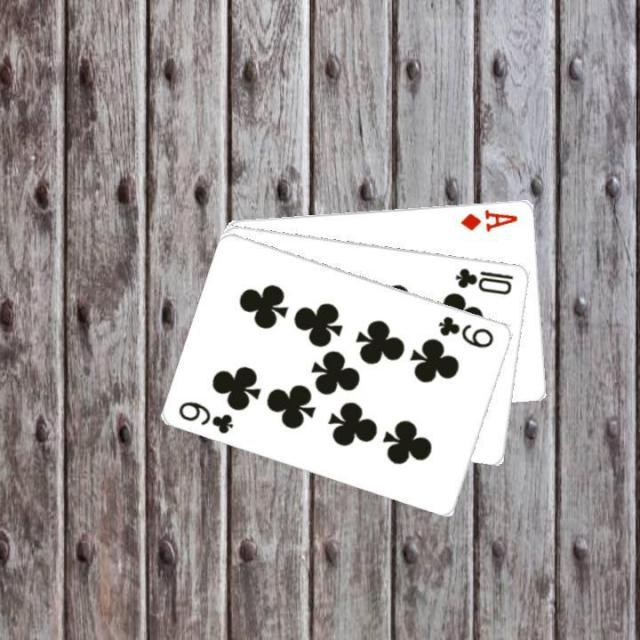10C: (452, 263, 516, 296)
9C: (434, 312, 496, 350), (176, 398, 237, 436)
AD: (457, 205, 519, 233)
